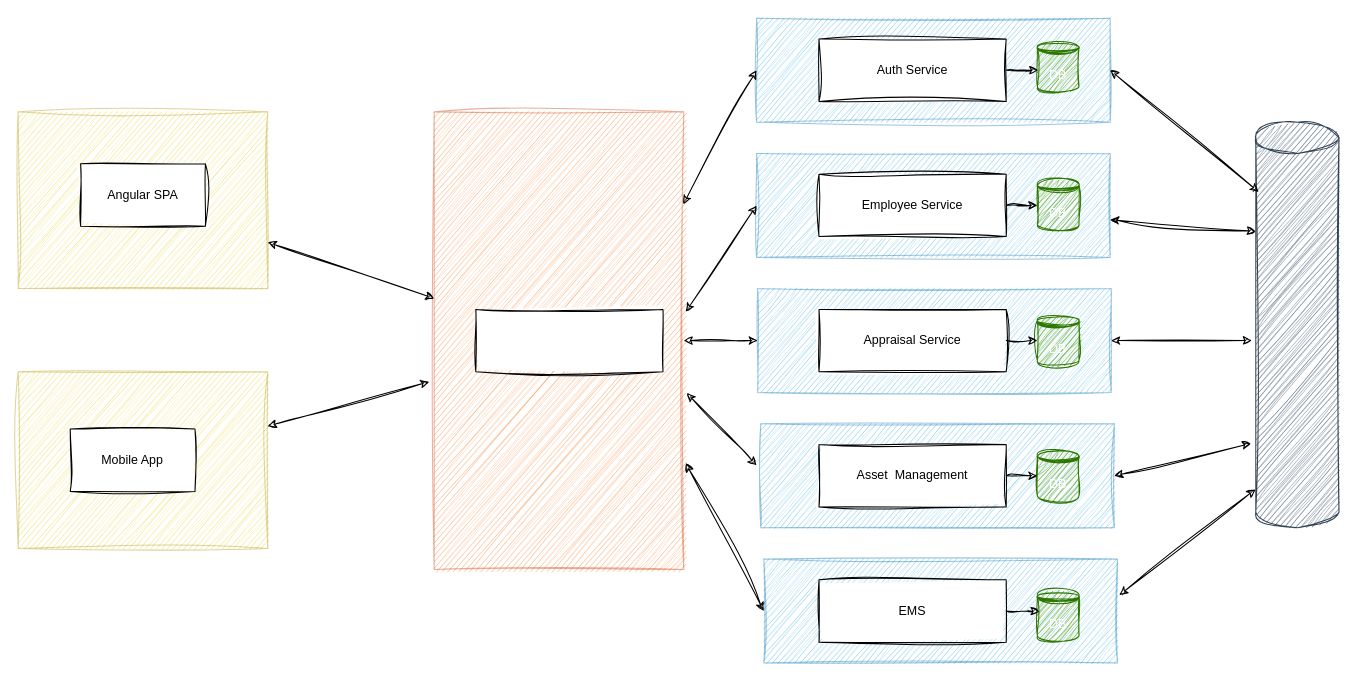
This 1357x681 diagram has some shape labels left out. The shapes that lost their labels are listed below. From the top down, each one's centre as x and y in pixels, then its label:
At point (569, 340): "API Gateway".
At point (1297, 324): "Event Bus".
